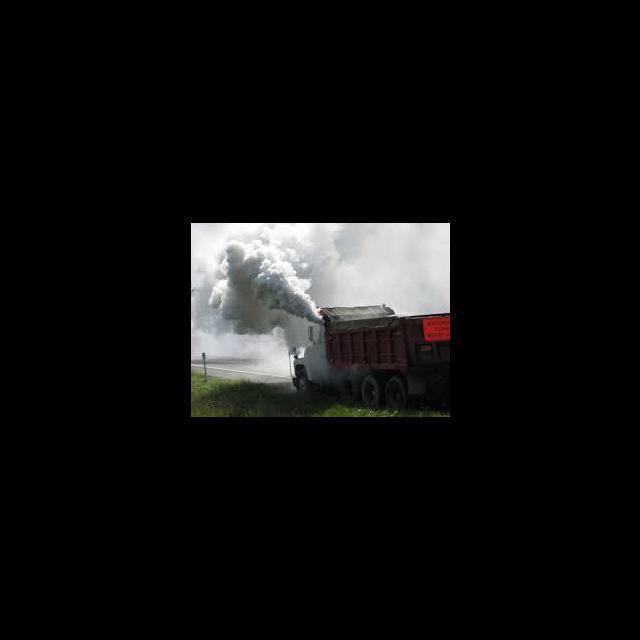Smoke: (218, 228, 314, 326), (317, 228, 370, 278)
